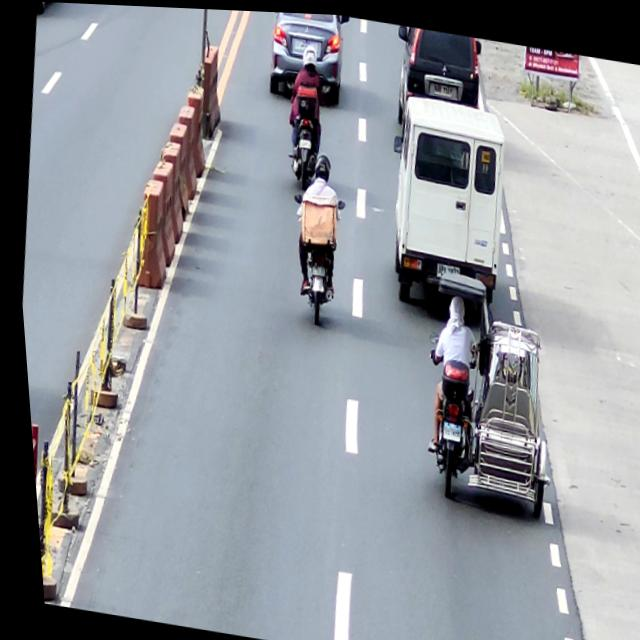Car: (370, 85, 517, 313), (386, 21, 487, 132), (257, 9, 354, 104)
License-Plate: (429, 255, 458, 279), (434, 415, 456, 439), (292, 35, 319, 52), (431, 76, 454, 94), (305, 260, 324, 277), (294, 133, 310, 148)
Motorcycle: (274, 187, 350, 326), (277, 77, 328, 189)
Tricycle: (401, 266, 564, 510)
